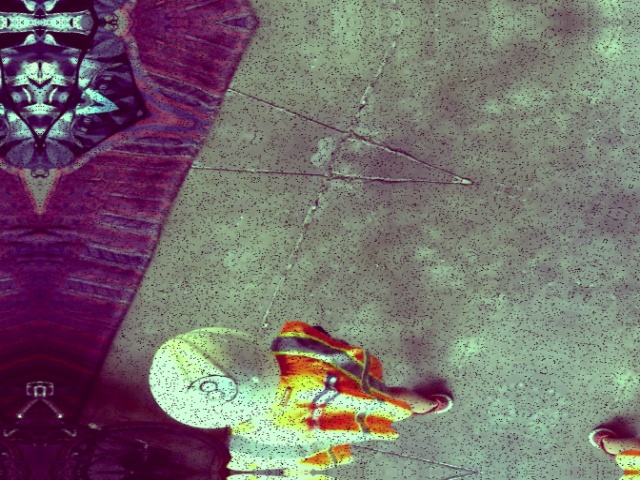eight: (178, 368, 243, 412)
